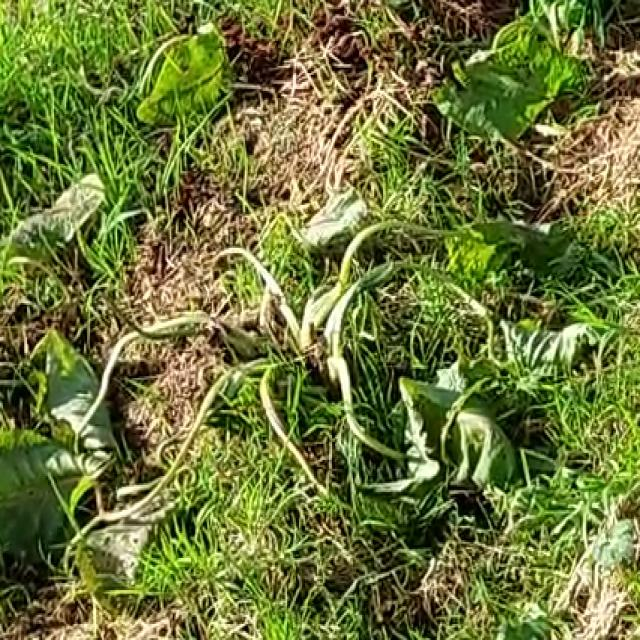organic waste: (10, 28, 592, 567)
